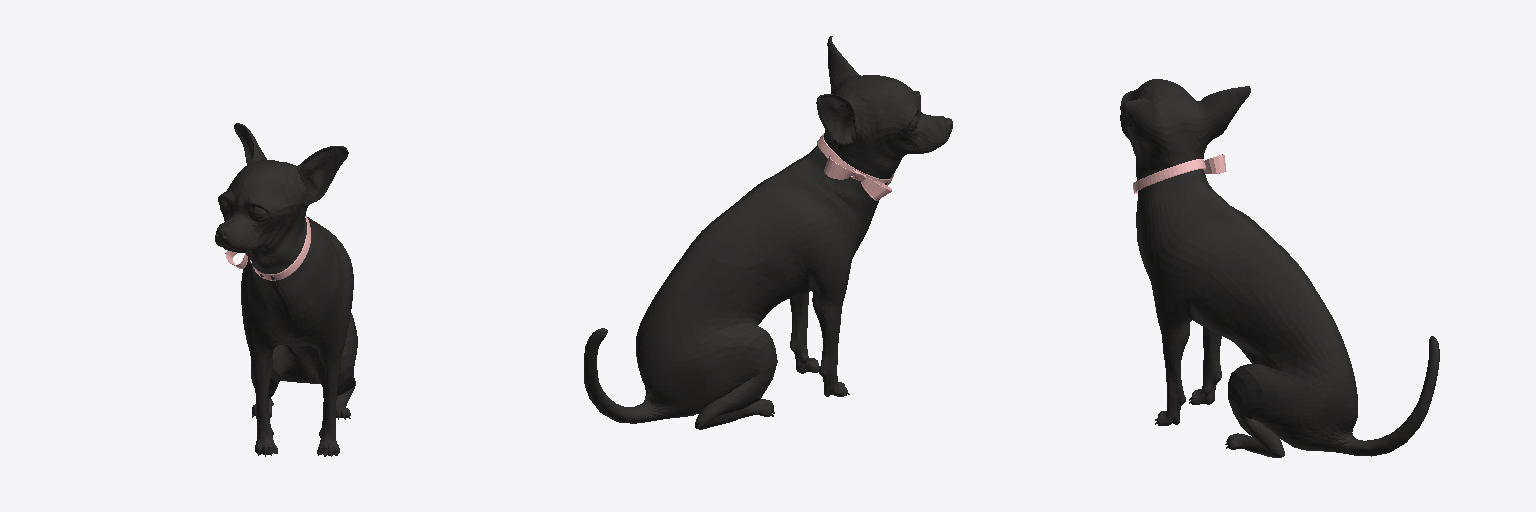
File: newDog.obj
3 renders of one model, left to right at view 1: azimuth 30°, elevation 25°; view 2: azimuth 150°, elevation 25°; view 3: azimuth 270°, elevation 25°, orthographic.
Visible parts, largest first — view 1: Mesh5 Group2 G_025_Vray Dog1 Model, Mesh2 Group1 G_025_Vray Dog1 Model; view 2: Mesh5 Group2 G_025_Vray Dog1 Model, Mesh4 Group1 G_025_Vray Dog1 Model; view 3: Mesh5 Group2 G_025_Vray Dog1 Model, Mesh2 Group1 G_025_Vray Dog1 Model.
Part boxes in pixels (bbox=[...]): Mesh5 Group2 G_025_Vray Dog1 Model: bbox=[215, 123, 357, 455]; Mesh2 Group1 G_025_Vray Dog1 Model: bbox=[250, 216, 310, 280]; Mesh5 Group2 G_025_Vray Dog1 Model: bbox=[584, 36, 952, 429]; Mesh4 Group1 G_025_Vray Dog1 Model: bbox=[824, 155, 855, 179]; Mesh5 Group2 G_025_Vray Dog1 Model: bbox=[1120, 79, 1439, 457]; Mesh2 Group1 G_025_Vray Dog1 Model: bbox=[1133, 159, 1205, 193].
Size of the model in its own units: 111 by 153 by 138.